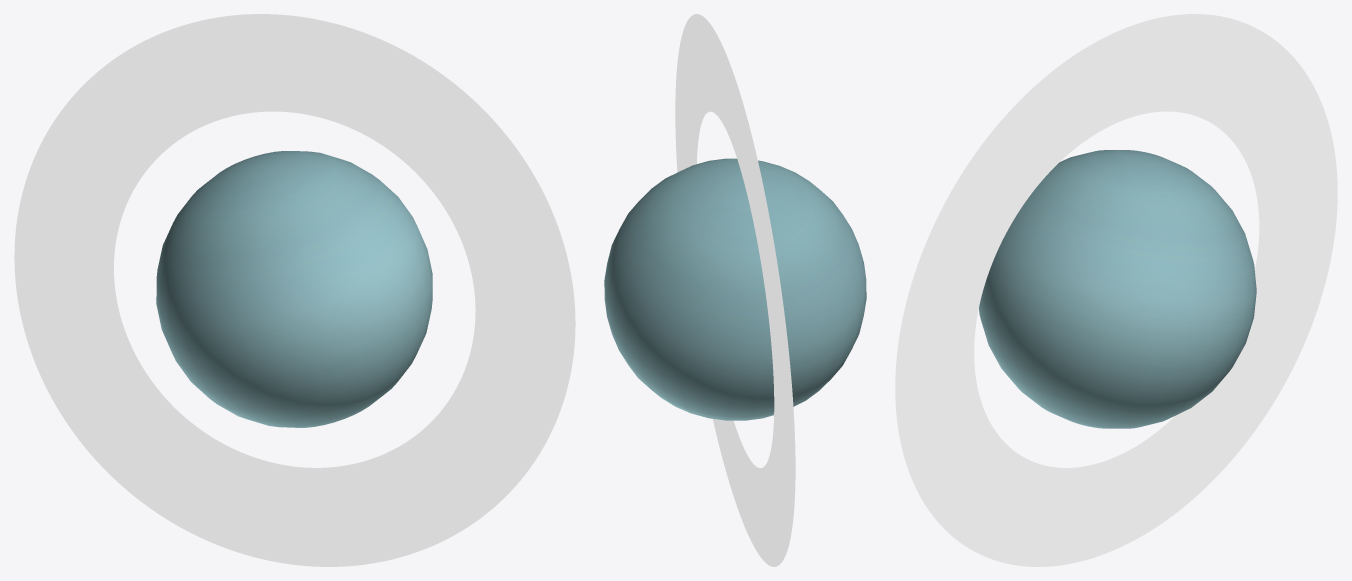
Rendered from Uranus.glb.
The picture shows the model from 3 angles, left to right: view 1: azimuth 30°, elevation 25°; view 2: azimuth 150°, elevation 25°; view 3: azimuth 270°, elevation 25°; orthographic projection. The views are drawn at different scales.
Visible parts, largest first — view 1: Circle.001; view 2: Circle.001; view 3: Circle.001.
Boxes of the visible parts, x1=… form: Circle.001: x1=14, y1=14, x2=575, y2=566; Circle.001: x1=604, y1=14, x2=866, y2=566; Circle.001: x1=895, y1=14, x2=1337, y2=566.
Bounding box in the file's own units: 435 × 648 × 483.
Materials: 2 (1 with a texture image).
